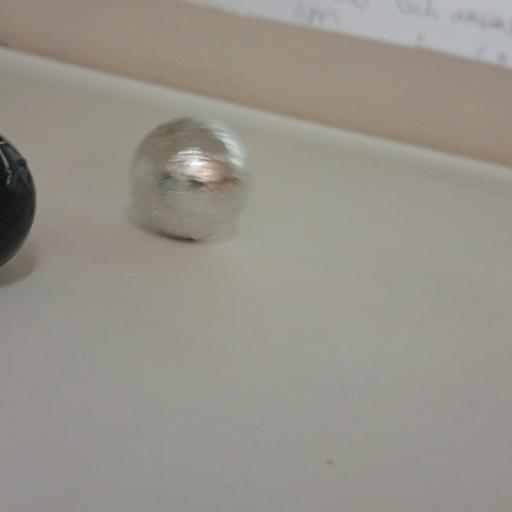alive: (126, 116, 258, 248)
dead: (0, 124, 36, 274)
